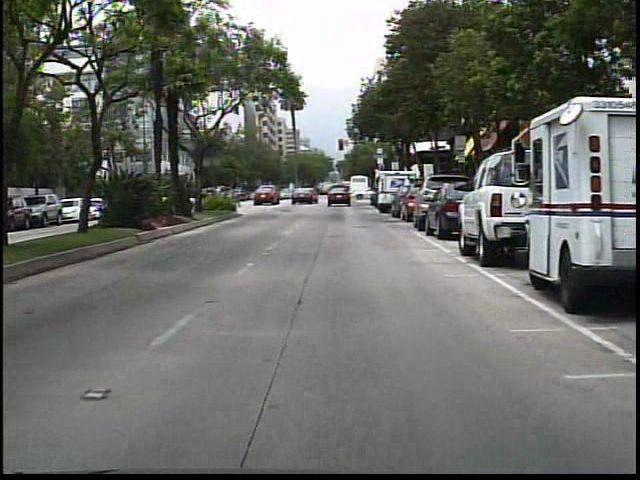person: (321, 181, 338, 205), (311, 184, 325, 205)
